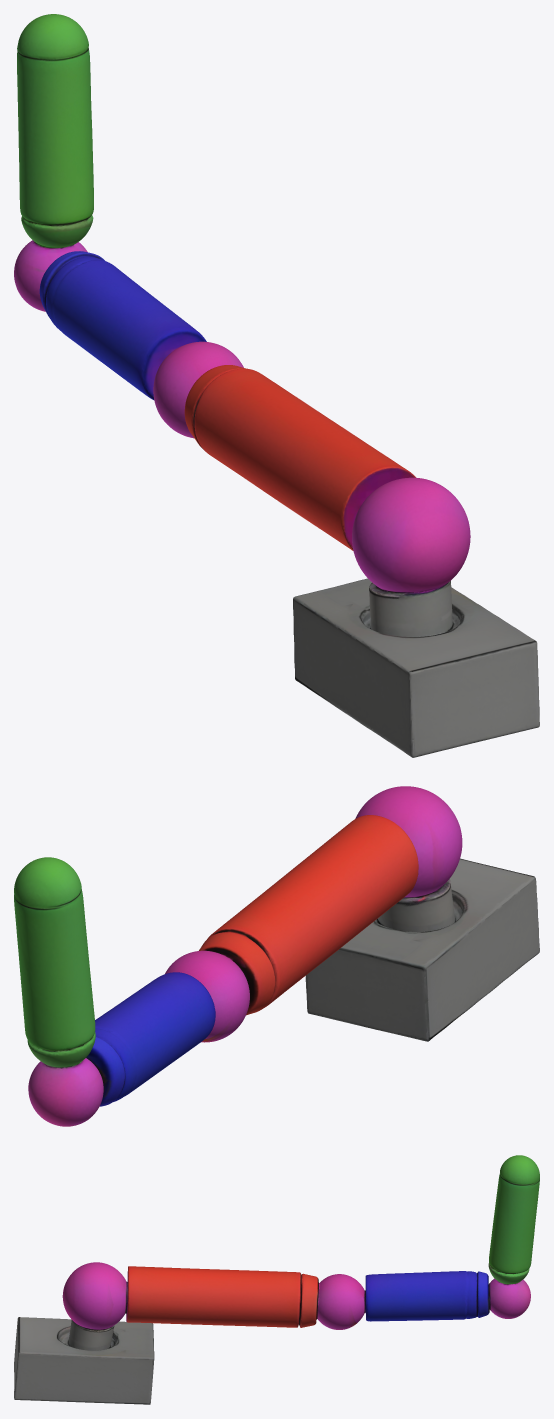
3 renders of one model, top to bottom at view 1: azimuth 30°, elevation 25°; view 2: azimuth 150°, elevation 25°; view 3: azimuth 270°, elevation 25°, orthographic. The views are drawn at different scales.
Visible parts, largest first — view 1: tripo_node_3ee841d7-d210-4798-a54a-386253a0e8c0; view 2: tripo_node_3ee841d7-d210-4798-a54a-386253a0e8c0; view 3: tripo_node_3ee841d7-d210-4798-a54a-386253a0e8c0.
Part boxes in pixels (box(x1,y1,x2,y2)): tripo_node_3ee841d7-d210-4798-a54a-386253a0e8c0: box(14, 14, 539, 757); tripo_node_3ee841d7-d210-4798-a54a-386253a0e8c0: box(14, 786, 539, 1126); tripo_node_3ee841d7-d210-4798-a54a-386253a0e8c0: box(14, 1155, 539, 1404).
Bounding box in the file's own units: 0.1634 × 0.4923 × 1.
1 material, 1 textured.
